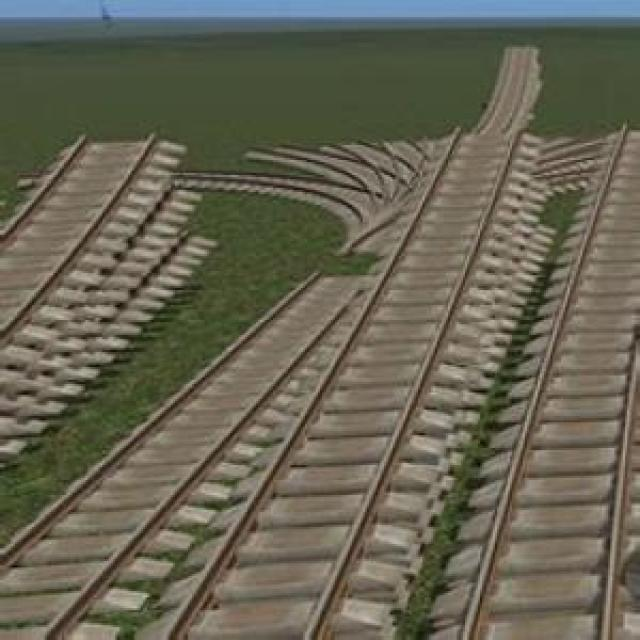rail: (162, 41, 546, 640), (1, 261, 383, 640), (434, 119, 639, 640), (1, 128, 177, 399), (177, 137, 426, 256)
